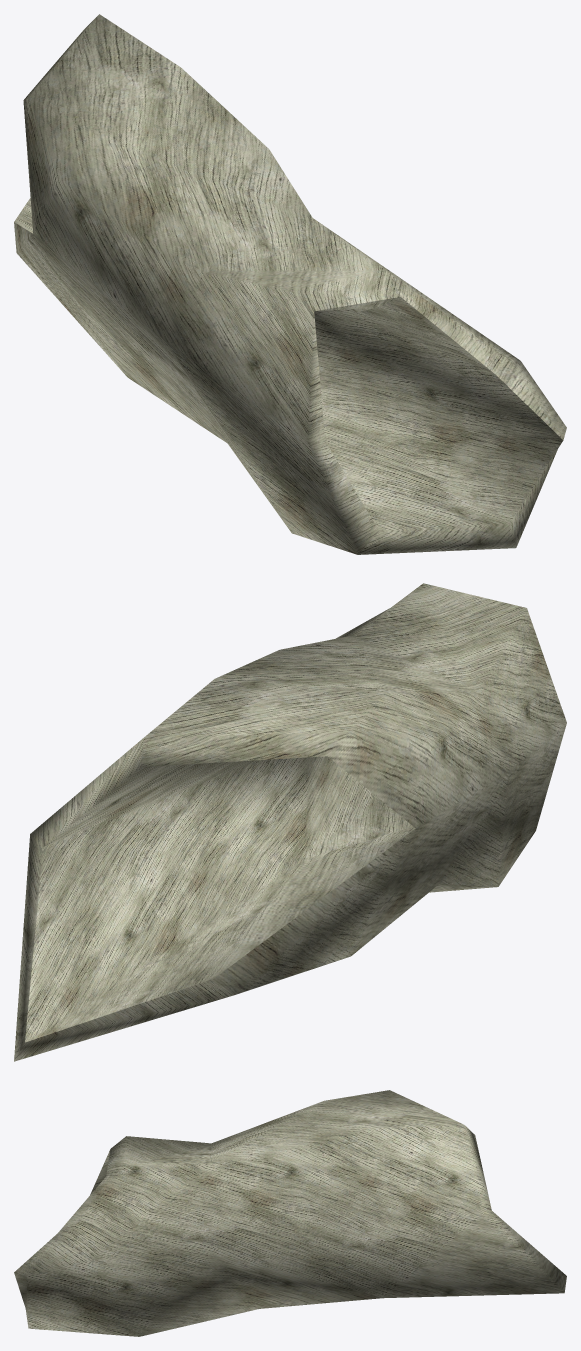
The model's file is shor_driftwood_massassi_hollow_l1.fbx.
3 views of the same model, one above another, from view 1: azimuth 30°, elevation 25°; view 2: azimuth 150°, elevation 25°; view 3: azimuth 270°, elevation 25° (orthographic). The views are drawn at different scales.
Visible parts, largest first — view 1: mesh_node; view 2: mesh_node; view 3: mesh_node.
Part boxes in pixels (x1,y1,x2,y2): mesh_node: (14,14,566,554); mesh_node: (14,583,566,1061); mesh_node: (14,1090,566,1336).
Bounding box in the file's own units: 5.52 × 5.93 × 15.1.
